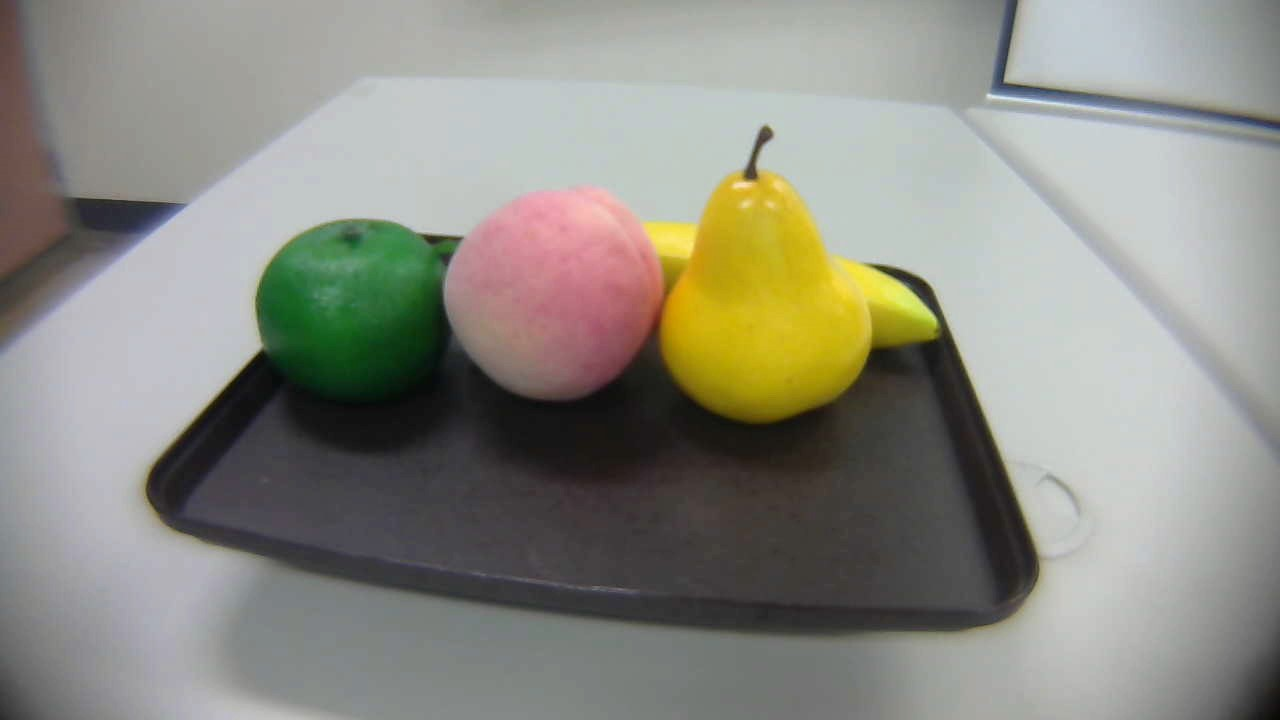banana: (617, 203, 956, 364)
green orange: (249, 210, 457, 417)
peach: (434, 168, 664, 424)
yellow pear: (640, 120, 896, 442)
